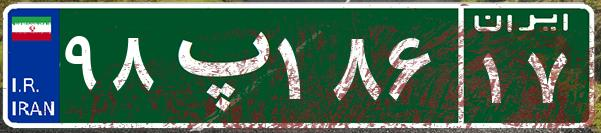1: (273, 28, 330, 110), (475, 38, 525, 113)
6: (385, 28, 445, 110)
7: (525, 38, 570, 115)
8: (330, 28, 385, 110), (110, 28, 158, 105)
9: (57, 26, 110, 107)
پ: (158, 15, 273, 115)
